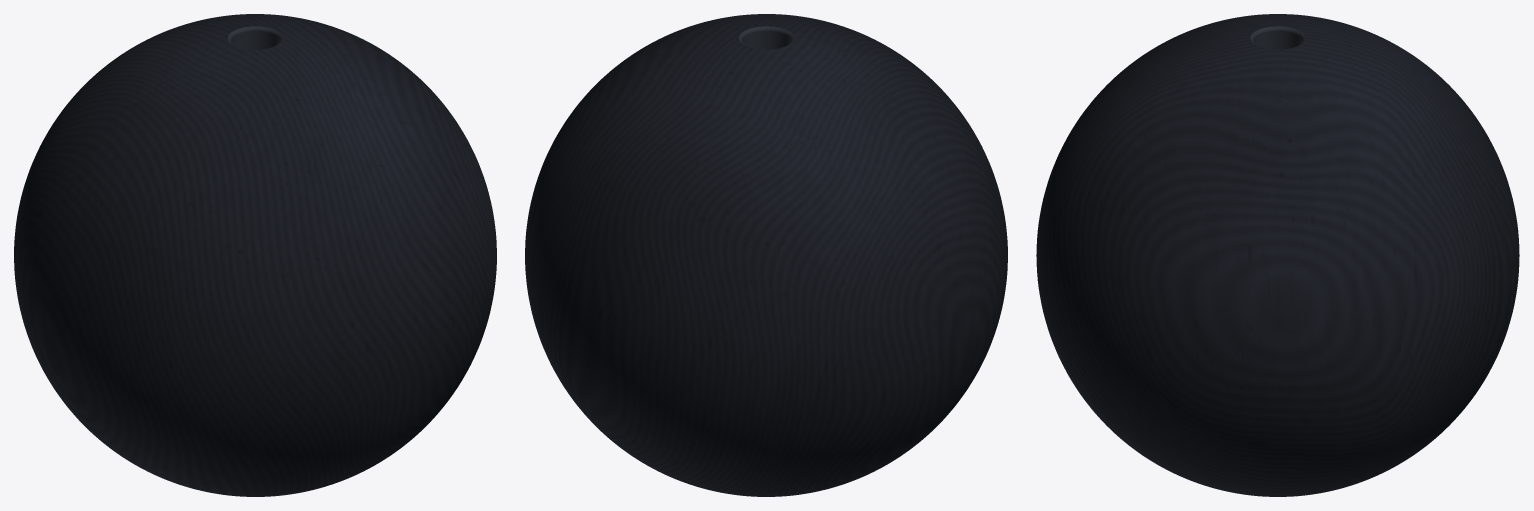
File: wood-african-blackwood-10mm.glb
3 renders of one model, left to right at view 1: azimuth 30°, elevation 25°; view 2: azimuth 150°, elevation 25°; view 3: azimuth 270°, elevation 25°, orthographic.
Parts seen in each view (by area): view 1: african-blackwood; view 2: african-blackwood; view 3: african-blackwood.
Part boxes in pixels (box(x1,y1,x2,y2)): african-blackwood: box(14, 14, 496, 496); african-blackwood: box(525, 14, 1007, 496); african-blackwood: box(1036, 14, 1519, 496).
Size of the model in its own units: 0.01 by 0.00993 by 0.01.
Materials: 2 (1 with a texture image).
